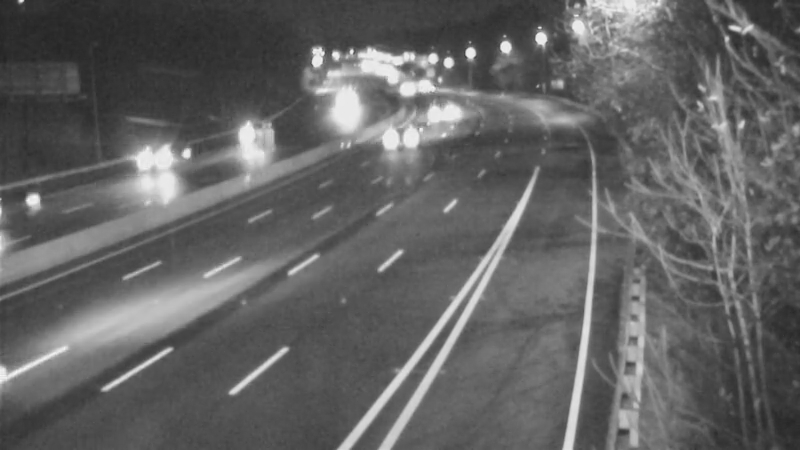vehicle: (114, 130, 194, 210), (1, 167, 72, 247), (400, 87, 450, 137), (367, 110, 417, 160), (231, 113, 281, 163), (314, 75, 364, 125)
